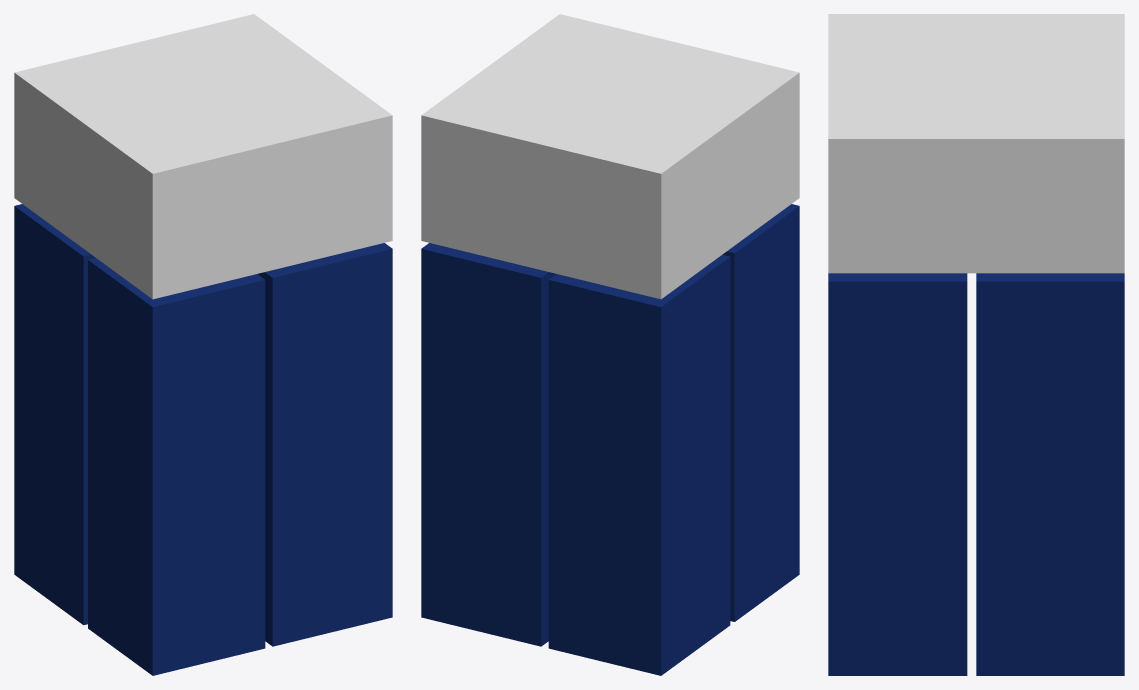
3 views of the same model, side by side, from view 1: azimuth 30°, elevation 25°; view 2: azimuth 150°, elevation 25°; view 3: azimuth 270°, elevation 25° (orthographic). The views are drawn at different scales.
Visible parts, largest first — view 1: 人物-0; view 2: 人物-0; view 3: 人物-0.
Part boxes in pixels (<box>): 人物-0: <box>14,14,392,675</box>; 人物-0: <box>421,14,799,675</box>; 人物-0: <box>828,14,1124,675</box>.
Size of the model in its own units: 32 by 64 by 32.
Materials: 1 (1 with a texture image).
